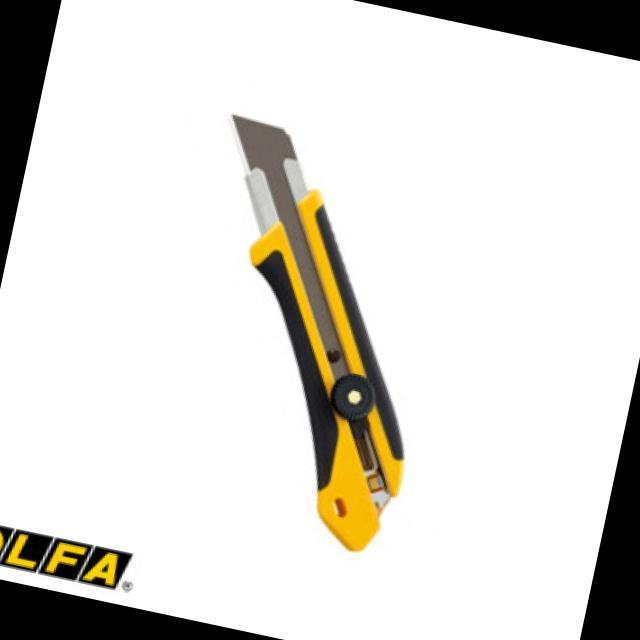cutter: (129, 92, 505, 576)
